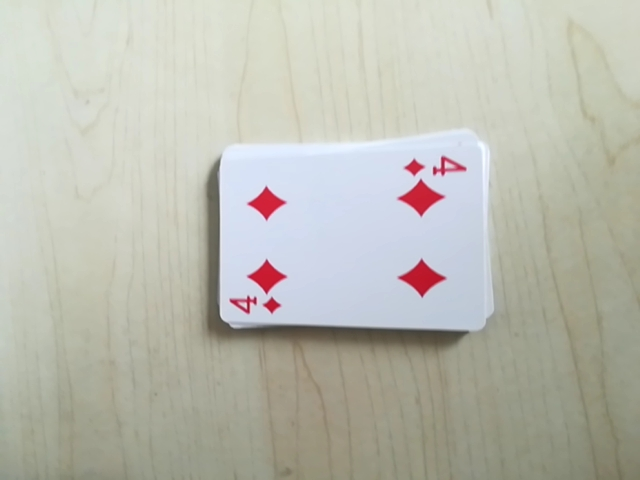fk 4: (403, 146, 473, 182), (223, 290, 287, 323)
